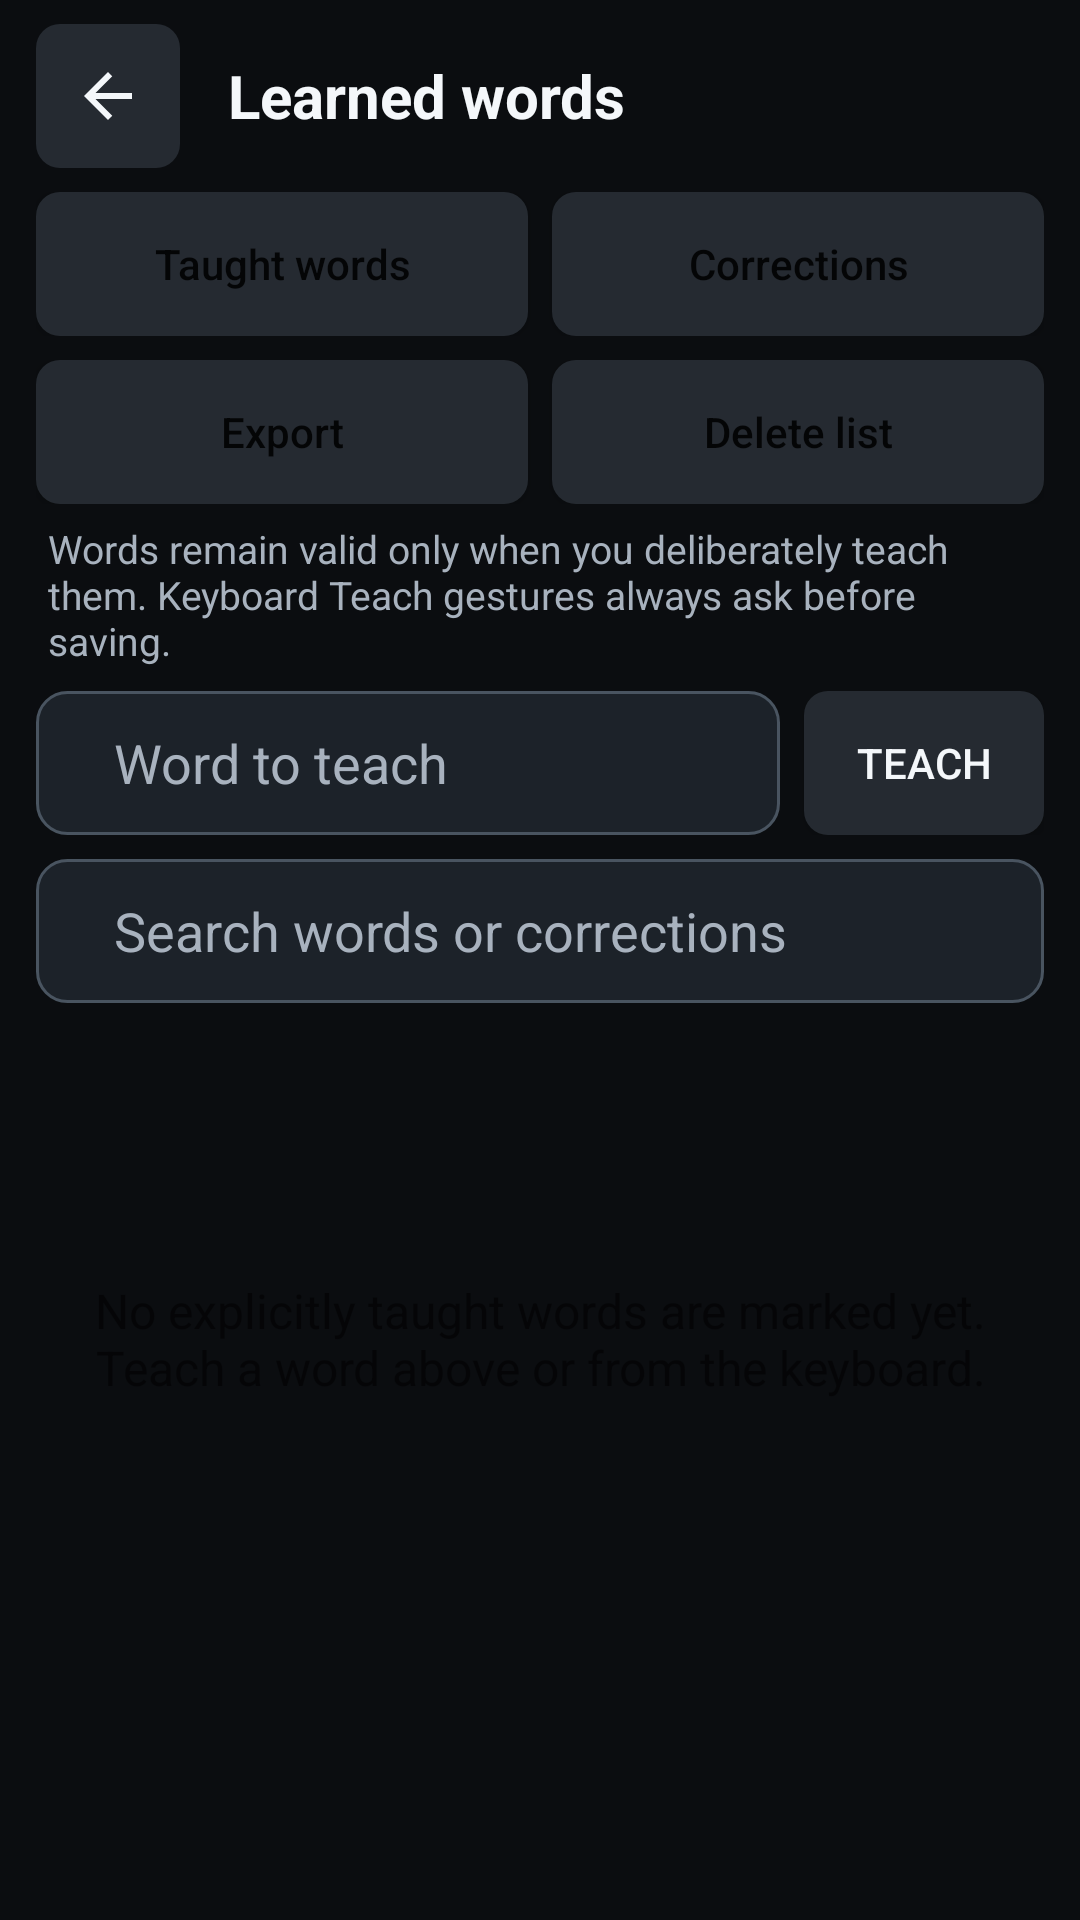

Screen size 1080 × 1920. Icon name, then its center in pixels as (x,y):
Back: (108,96)
